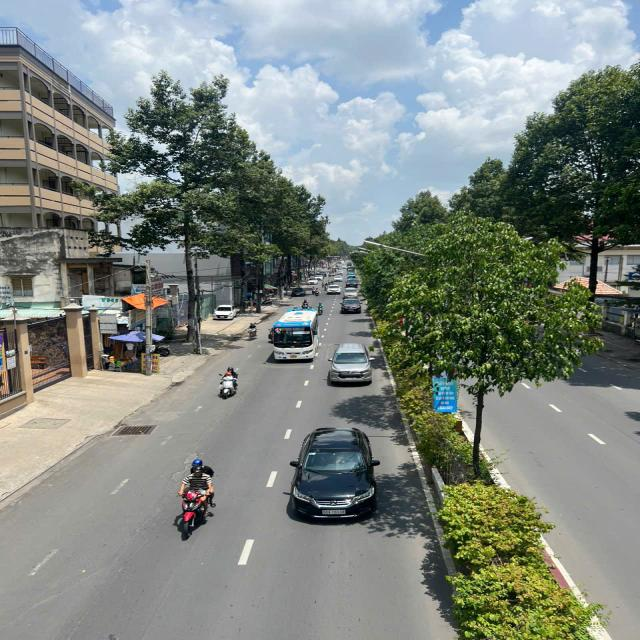car: (284, 424, 385, 525), (270, 308, 322, 362), (326, 339, 376, 390), (212, 298, 239, 325), (338, 293, 366, 316), (322, 280, 346, 298)
motobyte: (174, 456, 221, 539), (216, 362, 245, 402), (244, 319, 260, 342), (315, 298, 327, 318), (301, 297, 310, 313)
